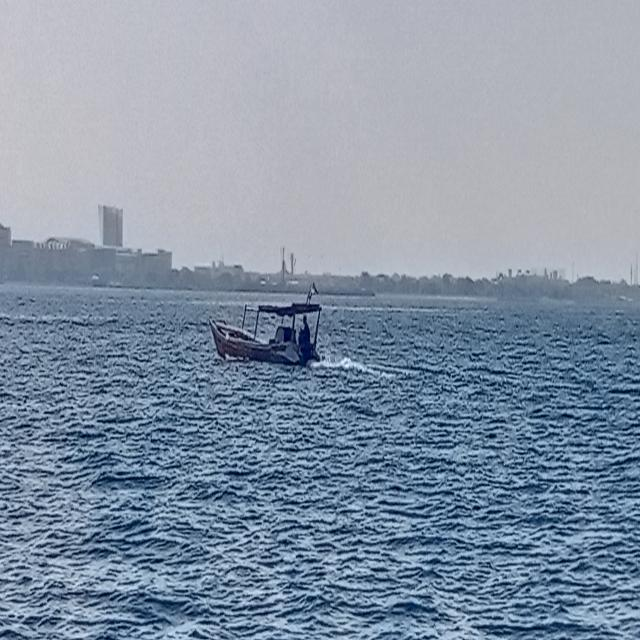Fishing Boat: (194, 248, 343, 402)
